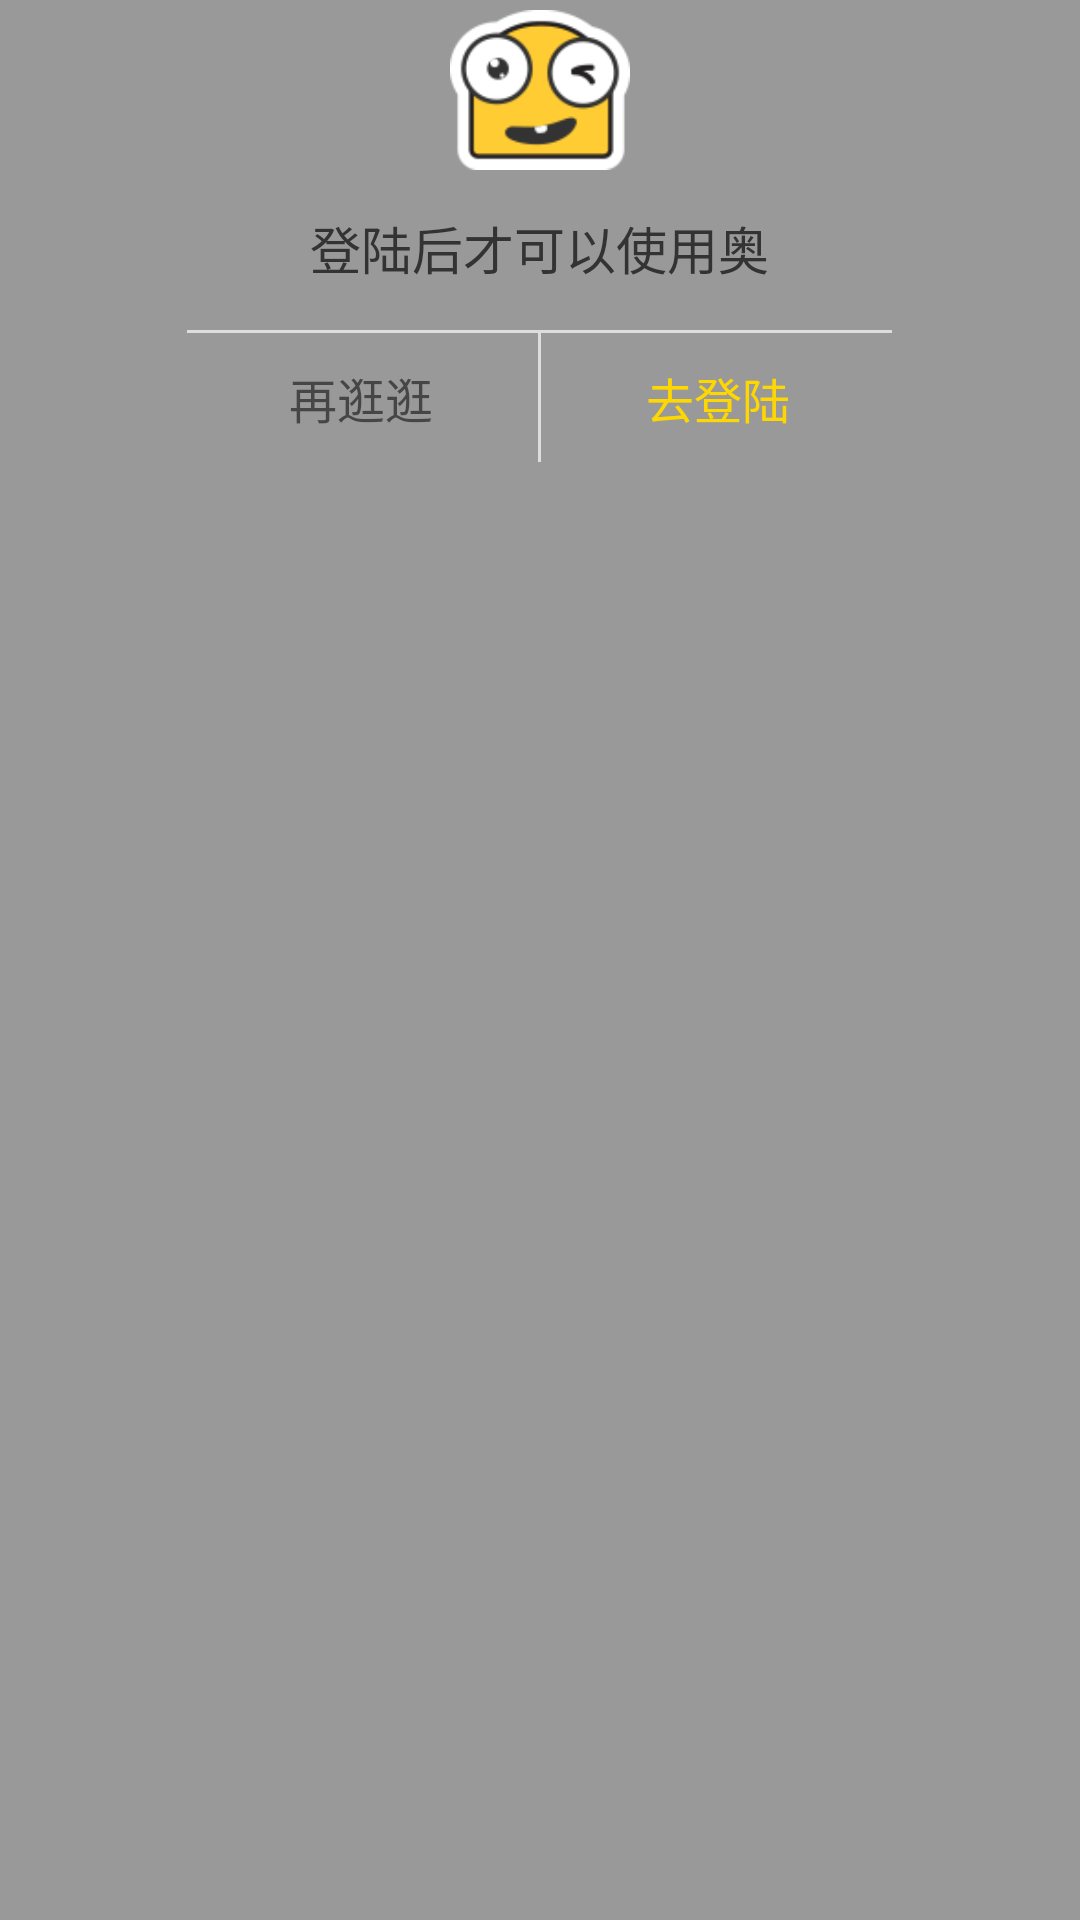

Screen size 1080x1920. Icon name, then its center in pixels as point (x, y):
login happy: point (540, 90)
